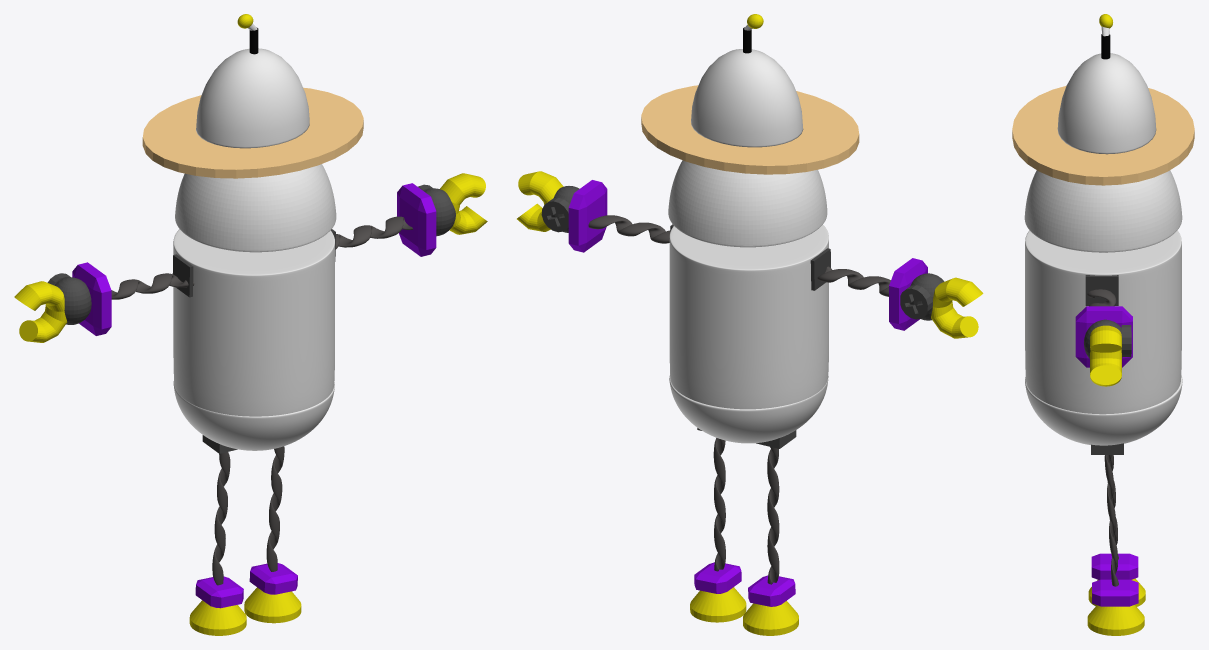
File: slinky_beta.fbx
The picture shows the model from 3 angles, left to right: view 1: azimuth 30°, elevation 25°; view 2: azimuth 150°, elevation 25°; view 3: azimuth 270°, elevation 25°; orthographic projection. The views are drawn at different scales.
Parts seen in each view (by area): view 1: telo.001, hlava.001, Cylinder, Sphere.011, Cube.002, Cylinder.001, Cube.003, Cylinder.002, Cone.002, Cone.001, Circle.005, Circle.003 (+6 smaller); view 2: telo.001, hlava.001, Cylinder, Sphere.011, Cube.002, Cylinder.001, Cone.001, Cone.002, Cylinder.002, Cube.003, Circle.005, Circle.003 (+6 smaller); view 3: telo.001, hlava.001, Cylinder, Sphere.011, Cylinder.002, Cone.002, Cube.002, Cube.005, Cube.001, Circle.003, Plane.002, Circle.001 (+3 smaller).
Part boxes in pixels (bbox=[...]): telo.001: bbox=[173, 229, 334, 450]; hlava.001: bbox=[175, 164, 336, 252]; Cylinder: bbox=[142, 87, 363, 178]; Sphere.011: bbox=[196, 48, 309, 148]; Cube.002: bbox=[397, 183, 436, 256]; Cylinder.001: bbox=[14, 281, 67, 342]; Cube.003: bbox=[72, 262, 111, 335]; Cylinder.002: bbox=[440, 173, 487, 234]; Cone.002: bbox=[244, 587, 301, 623]; Cone.001: bbox=[189, 600, 246, 635]; Circle.005: bbox=[212, 452, 230, 585]; Circle.003: bbox=[266, 446, 284, 571]; telo.001: bbox=[669, 225, 828, 443]; hlava.001: bbox=[668, 160, 827, 247]; Cylinder: bbox=[641, 85, 859, 174]; Sphere.011: bbox=[691, 49, 803, 147]; Cube.002: bbox=[568, 180, 607, 252]; Cylinder.001: bbox=[931, 277, 983, 338]; Cone.001: bbox=[743, 601, 798, 635]; Cone.002: bbox=[690, 587, 746, 622]; Cylinder.002: bbox=[517, 171, 563, 231]; Cube.003: bbox=[889, 258, 927, 330]; Circle.005: bbox=[767, 447, 779, 584]; Circle.003: bbox=[713, 438, 725, 571]; telo.001: bbox=[1025, 230, 1182, 445]; hlava.001: bbox=[1024, 170, 1182, 252]; Cylinder: bbox=[1012, 85, 1194, 185]; Sphere.011: bbox=[1057, 53, 1156, 154]; Cylinder.002: bbox=[1090, 325, 1121, 386]; Cone.002: bbox=[1087, 605, 1144, 635]; Cube.002: bbox=[1075, 306, 1132, 367]; Cube.005: bbox=[1092, 579, 1138, 606]; Cube.001: bbox=[1091, 553, 1138, 579]; Circle.003: bbox=[1104, 455, 1118, 586]; Plane.002: bbox=[1085, 275, 1118, 305]; Circle.001: bbox=[1087, 289, 1116, 306].
Bounding box in the file's own units: 654 × 815 × 227.
